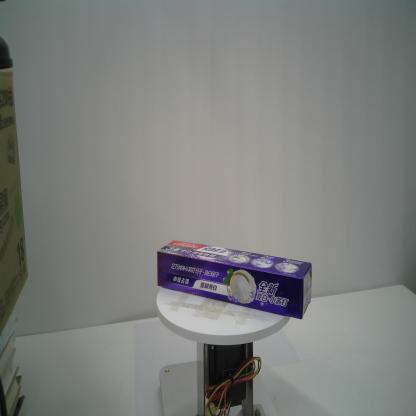Personal Hygiene: (157, 239, 313, 321)
